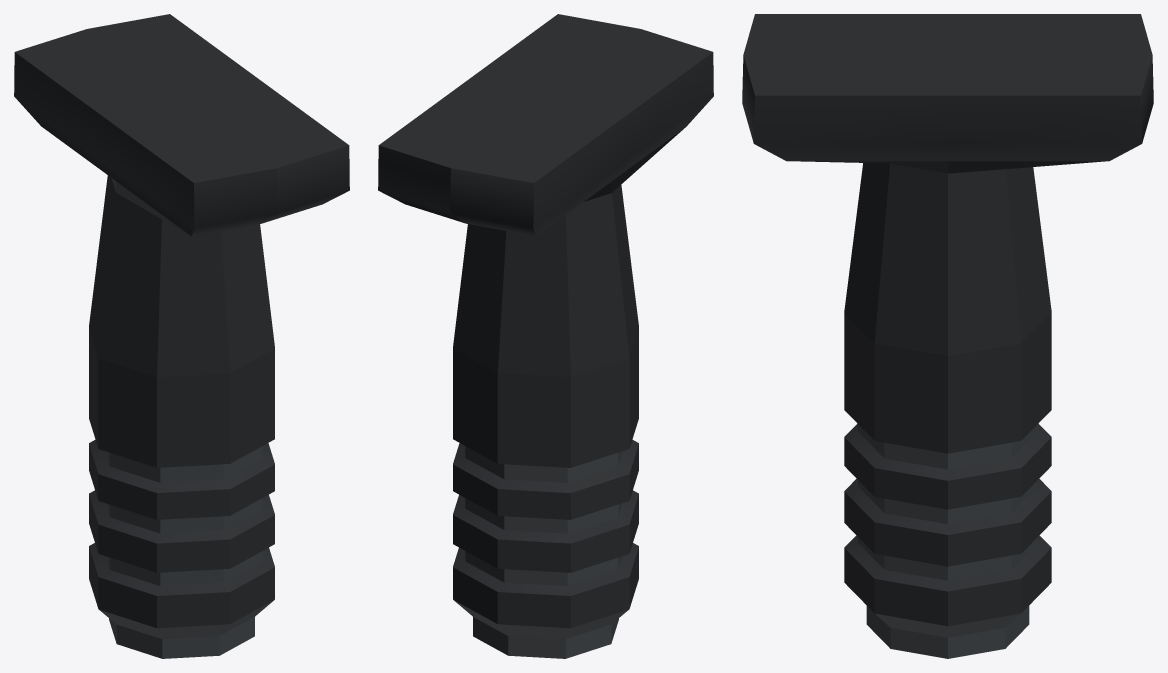
The model's file is SM_Wep_Attach_Foregrip_01.fbx.
3 renders of one model, left to right at view 1: azimuth 30°, elevation 25°; view 2: azimuth 150°, elevation 25°; view 3: azimuth 270°, elevation 25°, orthographic. The views are drawn at different scales.
Parts seen in each view (by area): view 1: SM_Wep_Attach_Foregrip_01; view 2: SM_Wep_Attach_Foregrip_01; view 3: SM_Wep_Attach_Foregrip_01.
Part boxes in pixels (x1,y1,x2,y2): SM_Wep_Attach_Foregrip_01: (14,14,349,658); SM_Wep_Attach_Foregrip_01: (378,14,713,658); SM_Wep_Attach_Foregrip_01: (742,14,1153,658).
Size of the model in its own units: 4.57 by 13.85 by 9.07.
1 material, 1 textured.
